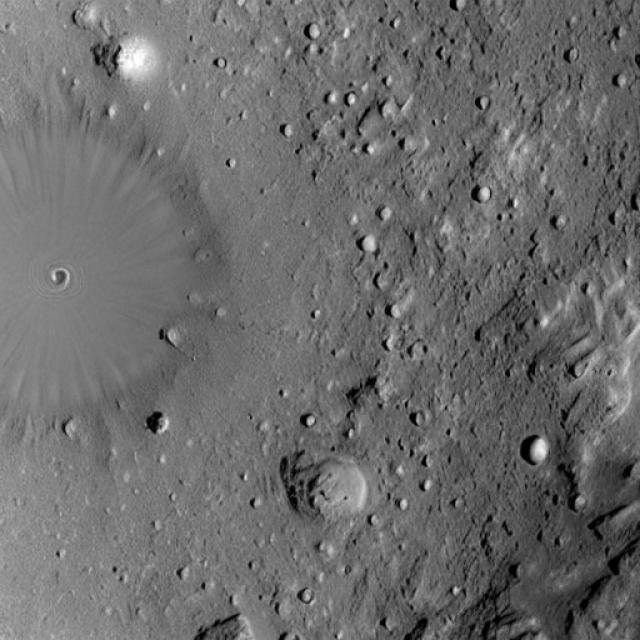crater: (0, 82, 246, 445)
